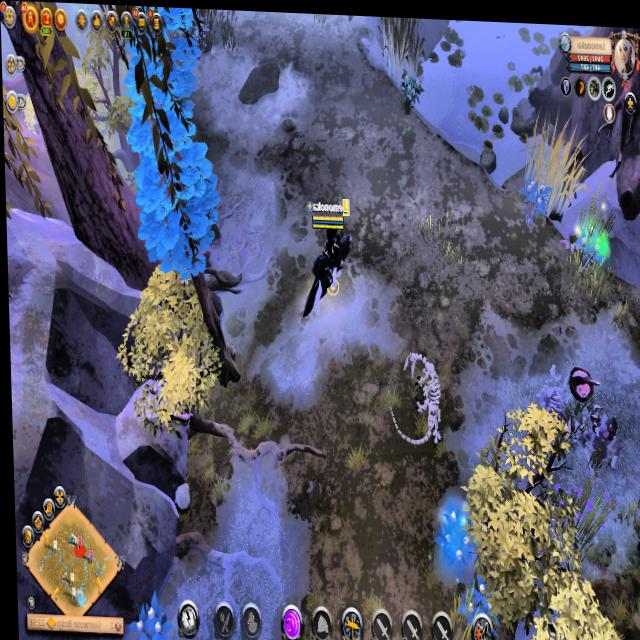fiber tier 3: (398, 65, 426, 115)
fiber tier 4: (428, 494, 474, 577), (571, 213, 610, 271), (517, 171, 551, 223)
wood tier 3: (123, 41, 220, 286)
